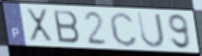2: (82, 10, 108, 46)
9: (167, 12, 192, 51)
B: (51, 8, 82, 45)
C: (108, 10, 139, 48)
U: (135, 11, 166, 49)
X: (24, 6, 55, 45)
